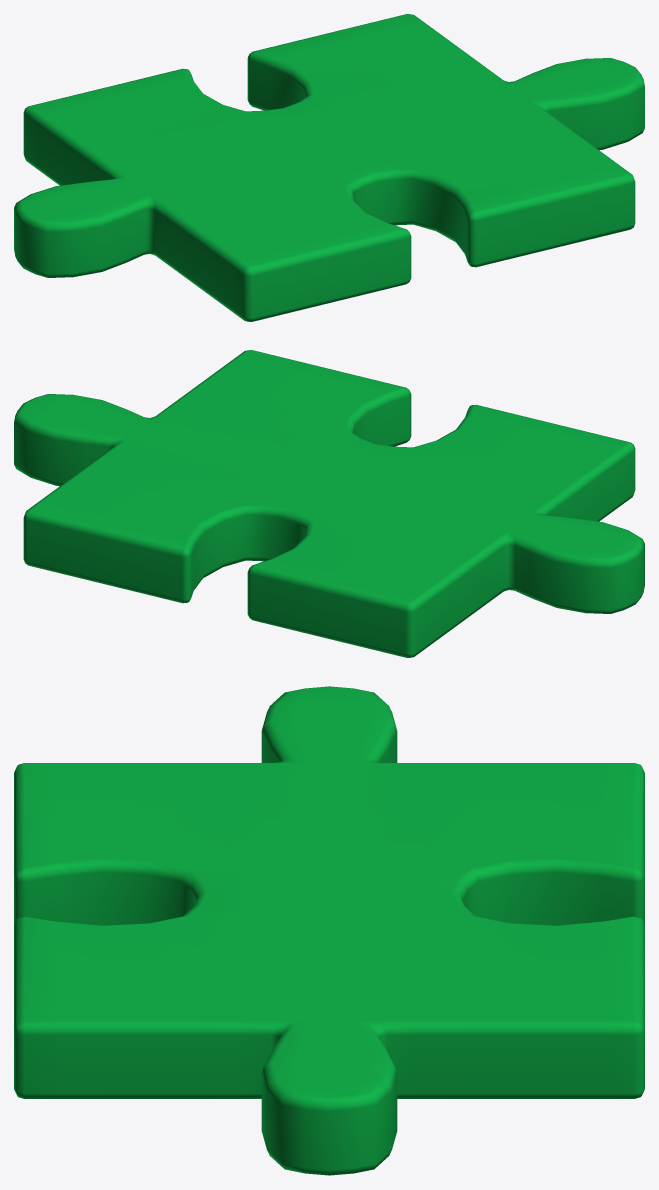
File: Store_9_Puzzle_4.glb
3 renders of one model, top to bottom at view 1: azimuth 30°, elevation 25°; view 2: azimuth 150°, elevation 25°; view 3: azimuth 270°, elevation 25°, orthographic. The views are drawn at different scales.
Parts seen in each view (by area): view 1: Store_9_Puzzle_4; view 2: Store_9_Puzzle_4; view 3: Store_9_Puzzle_4.
Boxes of the visible parts, box(x1,y1,x2,y2) form: Store_9_Puzzle_4: box(14, 14, 644, 321); Store_9_Puzzle_4: box(14, 350, 644, 657); Store_9_Puzzle_4: box(14, 686, 644, 1175).
Size of the model in its own units: 2.06 by 0.1778 by 1.31.
1 material, 1 textured.
